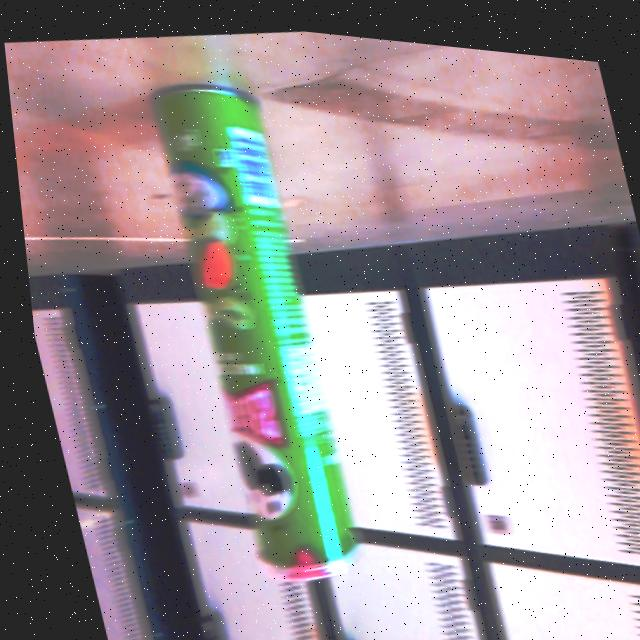greenpringles: (124, 51, 389, 607)
